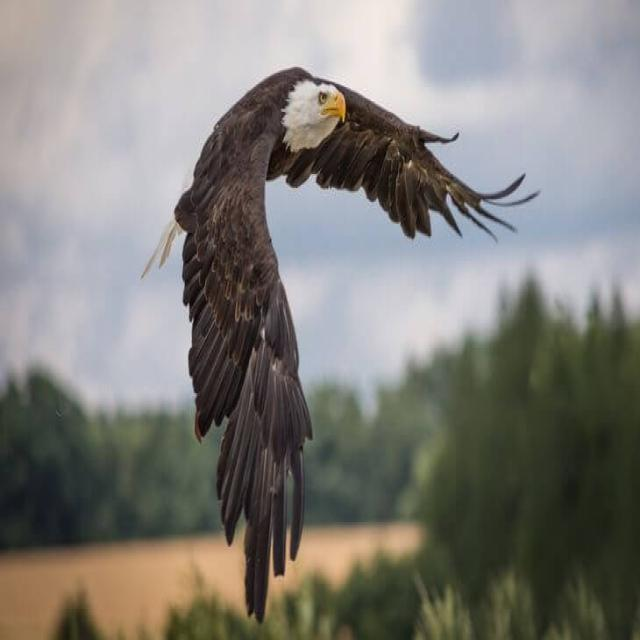Carnivorous: (172, 68, 526, 624)
